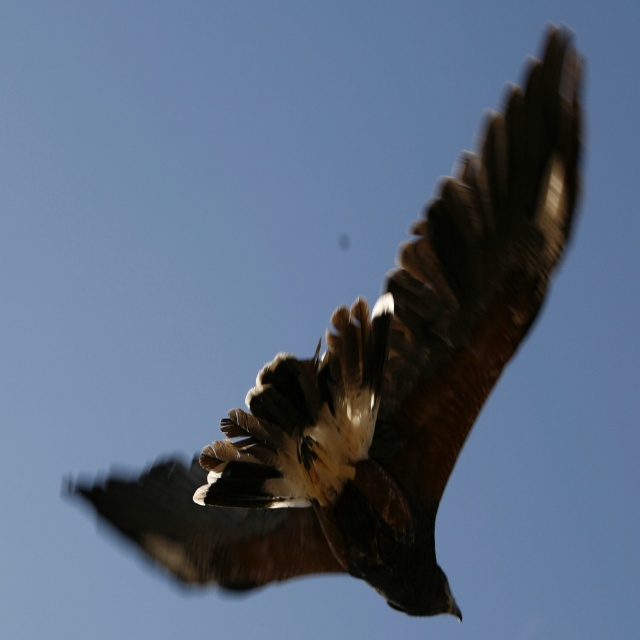Eagle: (60, 22, 592, 625)
